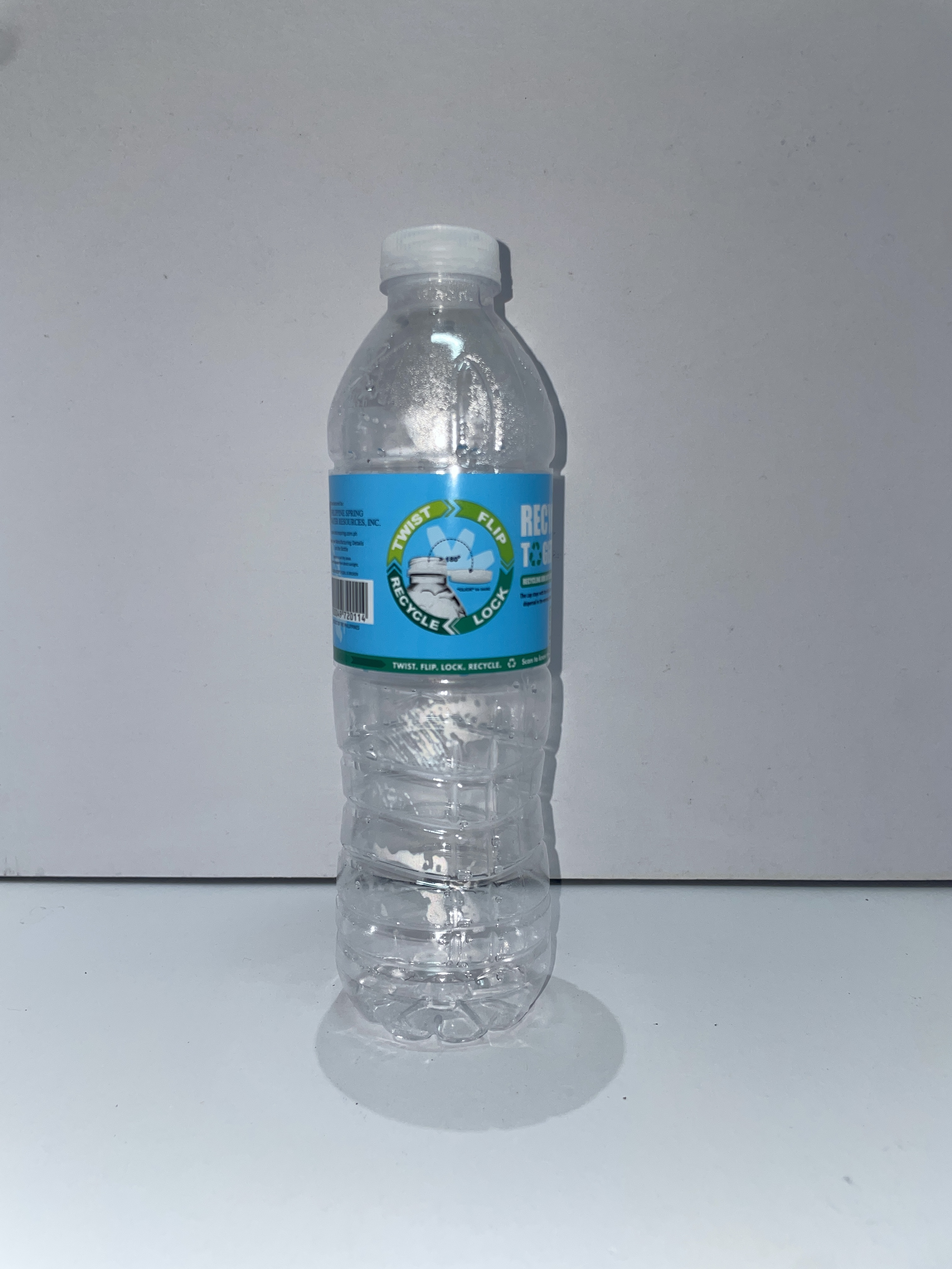natures spring 500ml: (328, 225, 556, 1042)
